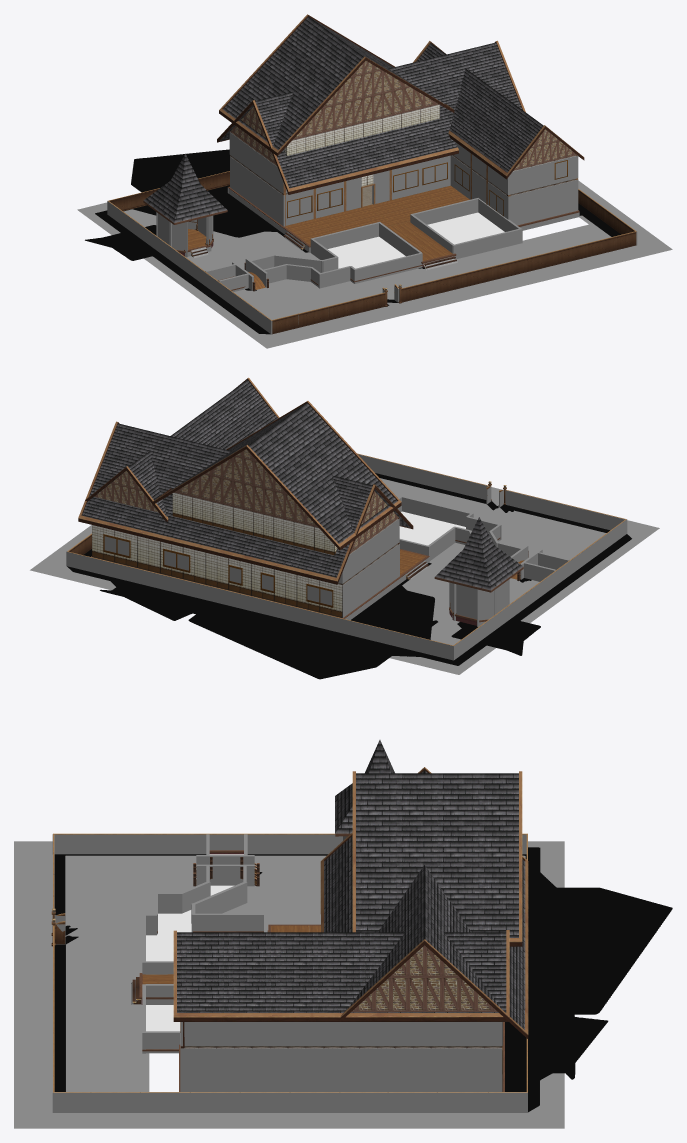
File: zhuzhai_rixi01.FBX
3 views of the same model, one above another, from view 1: azimuth 30°, elevation 25°; view 2: azimuth 150°, elevation 25°; view 3: azimuth 270°, elevation 25° (orthographic). The views are drawn at different scales.
Visible parts, largest first — view 1: floor_wd, floor_dz, box_1l, wq, wall_dz, shadow, floor_1l, shui, box_2l, Box003, wall_1l, Box002 (+2 smaller); view 2: floor_wd, shadow, floor_dz, box_dz, wall_1l, wq, box_1l, Box003, wall_dz, Box001, Box002, shui; view 3: floor_wd, floor_dz, shadow, box_1l, Box004, box_2l, wq, Box003, wall_dz, shui, floor_1l, wall_1l.
Boxes of the visible parts, x1,y1,x2,y2 form: floor_wd: (143,14,584,224); floor_dz: (77,180,672,348); box_1l: (156,155,578,257); wq: (205,198,522,291); wall_dz: (108,171,636,334); shadow: (85,149,620,334); floor_1l: (188,185,469,289); shui: (328,212,504,268); box_2l: (286,142,578,195); Box003: (107,201,272,334); wall_1l: (176,155,578,257); Box002: (229,132,283,193); floor_wd: (78,377,523,592); shadow: (67,473,631,679); floor_dz: (30,478,659,674); box_dz: (66,454,624,660); wall_1l: (92,525,488,625); wq: (397,496,569,581); box_1l: (342,544,509,626); Box003: (453,519,627,660); wall_dz: (67,453,626,645); Box001: (104,536,332,605); Box002: (341,518,399,583); shui: (399,511,465,545); floor_wd: (173,740,528,1038); floor_dz: (14,841,564,1128); shadow: (54,847,672,1112); box_1l: (180,836,502,1091); Box004: (52,1092,527,1112); box_2l: (180,1022,502,1046); wq: (142,834,267,1053); Box003: (52,834,526,854); wall_dz: (51,833,527,1092); shui: (146,854,243,1031); floor_1l: (142,877,320,984); wall_1l: (180,836,502,1091).
Size of the model in its own units: 5834 by 2019 by 5317.
Materials: 6 (3 with a texture image).
